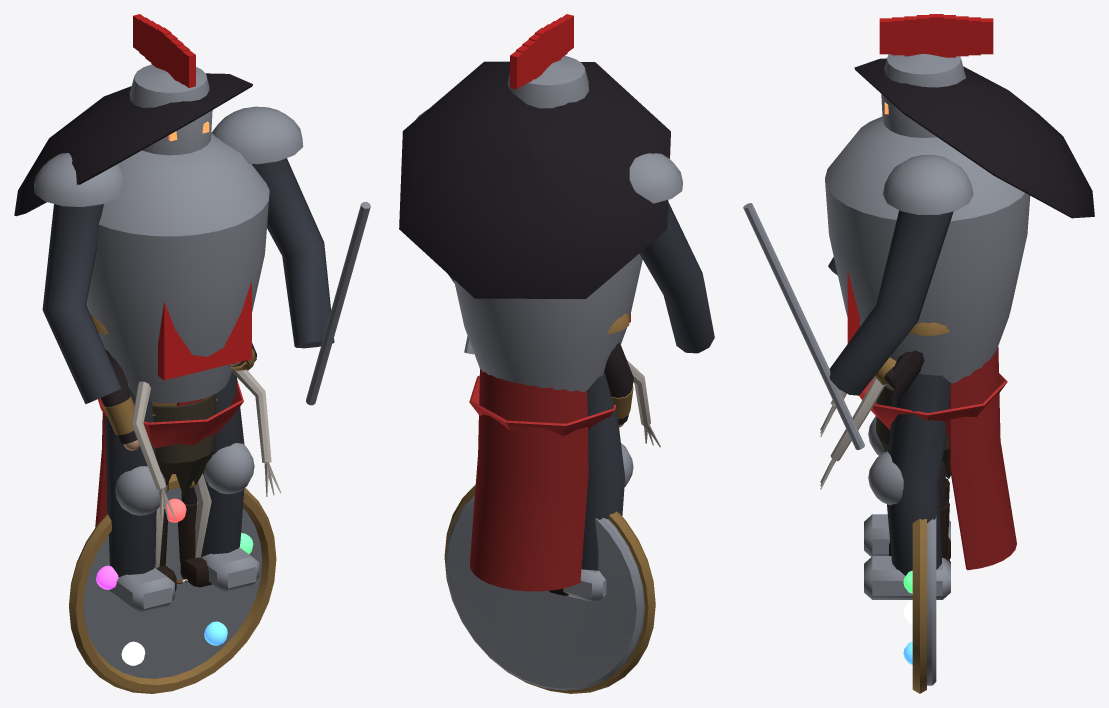
File: walden.glb
The picture shows the model from 3 angles, left to right: view 1: azimuth 30°, elevation 25°; view 2: azimuth 150°, elevation 25°; view 3: azimuth 270°, elevation 25°; orthographic projection.
Parts seen in each view (by area): view 1: chp_body, chp_shield, wal_body, gho_body, t11_umb; view 2: wal_body, chp_body, chp_shield, t11_umb, gho_body; view 3: chp_body, wal_body, chp_shield, gho_body, t11_umb.
Part boxes in pixels (bbox=[...]): chp_body: bbox=[34, 14, 370, 613]; chp_shield: bbox=[69, 474, 276, 693]; wal_body: bbox=[14, 73, 256, 591]; gho_body: bbox=[131, 369, 281, 568]; t11_umb: bbox=[98, 380, 243, 583]; wal_body: bbox=[399, 61, 670, 595]; chp_body: bbox=[415, 14, 714, 602]; chp_shield: bbox=[444, 485, 655, 693]; t11_umb: bbox=[469, 376, 616, 436]; gho_body: bbox=[627, 360, 660, 447]; chp_body: bbox=[743, 14, 1030, 599]; wal_body: bbox=[854, 58, 1094, 570]; chp_shield: bbox=[903, 517, 936, 693]; gho_body: bbox=[820, 377, 950, 489]; t11_umb: bbox=[859, 373, 1007, 436].
Bounding box in the file's own units: 1.57 × 3.56 × 1.7.
